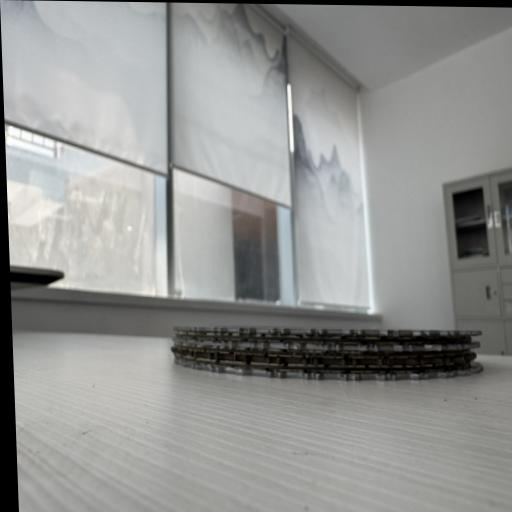black metal plate: (171, 346, 476, 365)
shiney metal plate: (173, 358, 483, 380), (172, 336, 481, 351), (171, 326, 482, 338)
spacer: (174, 352, 471, 372), (173, 344, 470, 358), (175, 333, 471, 344)
